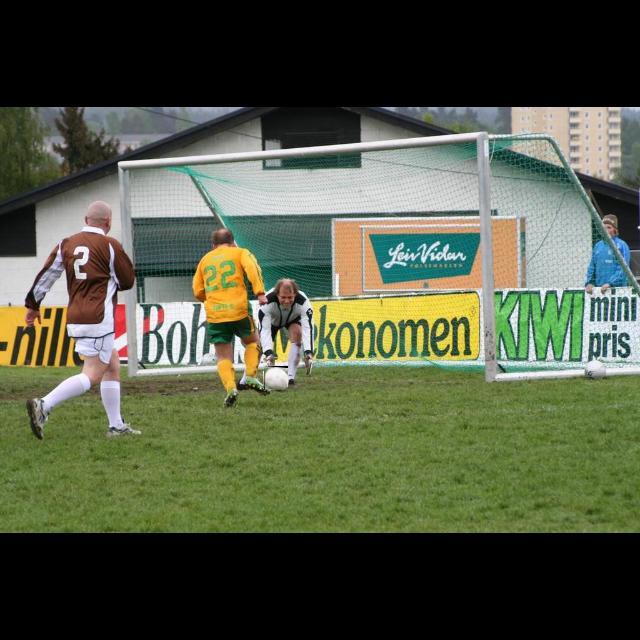Football: (264, 366, 288, 390)
